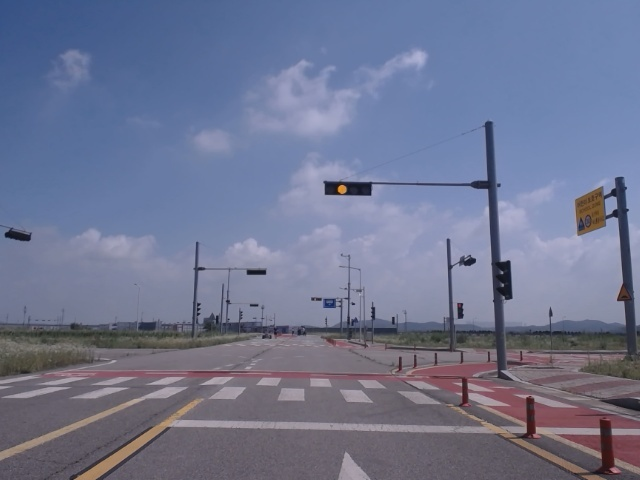orange_4: (324, 183, 371, 196)
